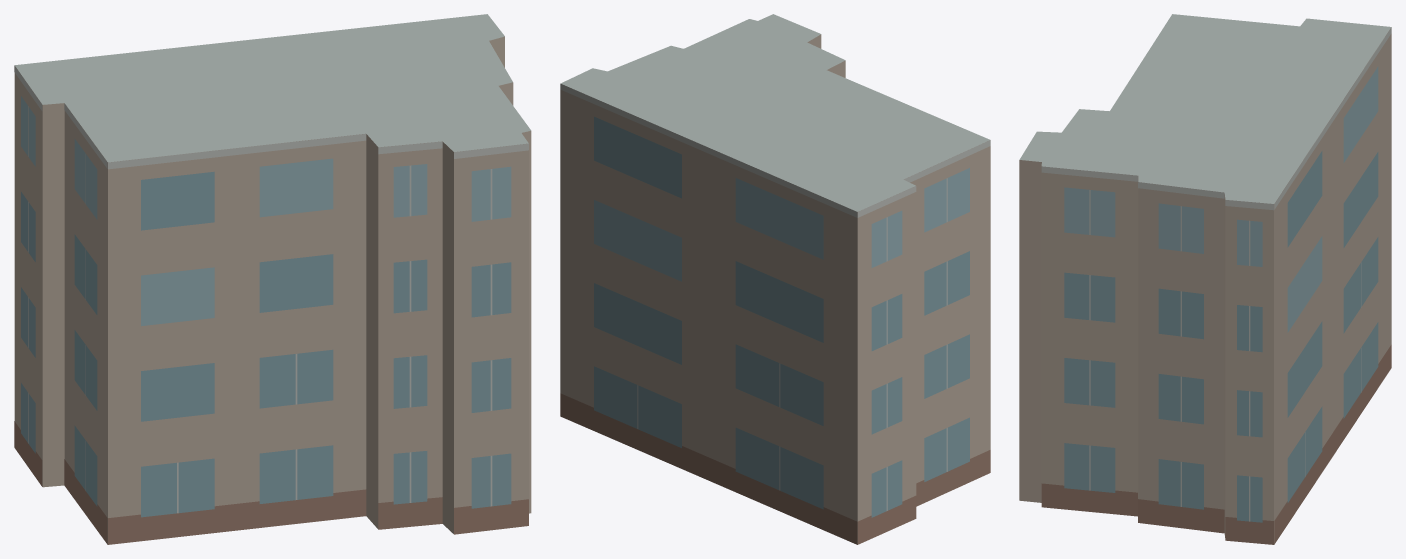
The model's file is survey-upis-32625562.glb.
The picture shows the model from 3 angles, left to right: view 1: azimuth 30°, elevation 25°; view 2: azimuth 150°, elevation 25°; view 3: azimuth 270°, elevation 25°; orthographic projection. The views are drawn at different scales.
Parts seen in each view (by area): view 1: survey-upis-32625562.tmp; view 2: survey-upis-32625562.tmp; view 3: survey-upis-32625562.tmp.
Boxes of the visible parts, box(x1,y1,x2,y2) form: survey-upis-32625562.tmp: box(14, 14, 531, 544); survey-upis-32625562.tmp: box(560, 14, 990, 544); survey-upis-32625562.tmp: box(1019, 14, 1391, 544).
Bounding box in the file's own units: 16.03 × 13.4 × 13.27.
